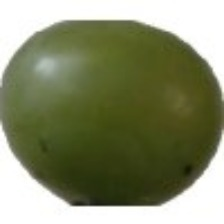grapes: (43, 35, 184, 183)
